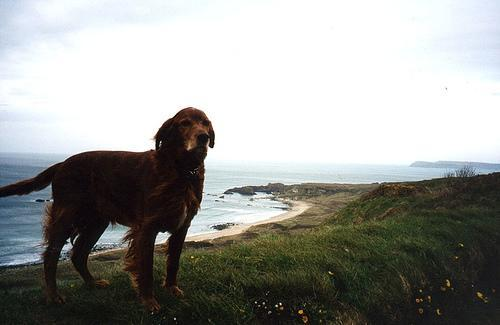Irish_setter: (0, 105, 216, 316)
